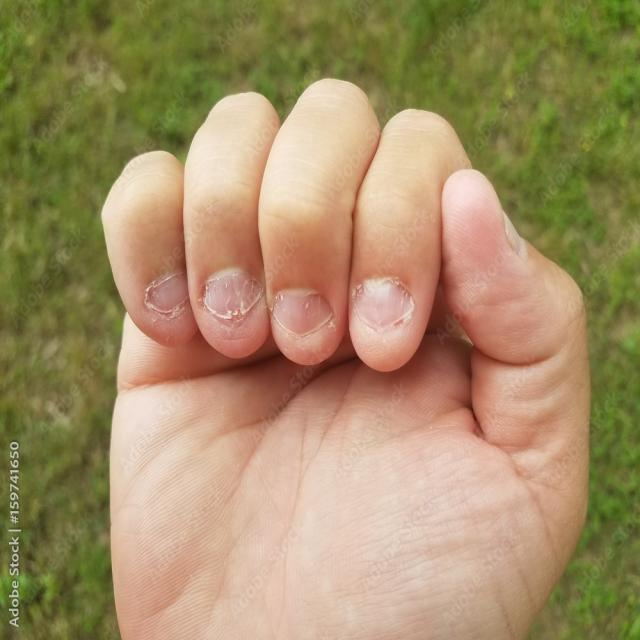Fingernail: (205, 270, 260, 318), (355, 284, 409, 330), (274, 292, 328, 334), (146, 273, 185, 317)
